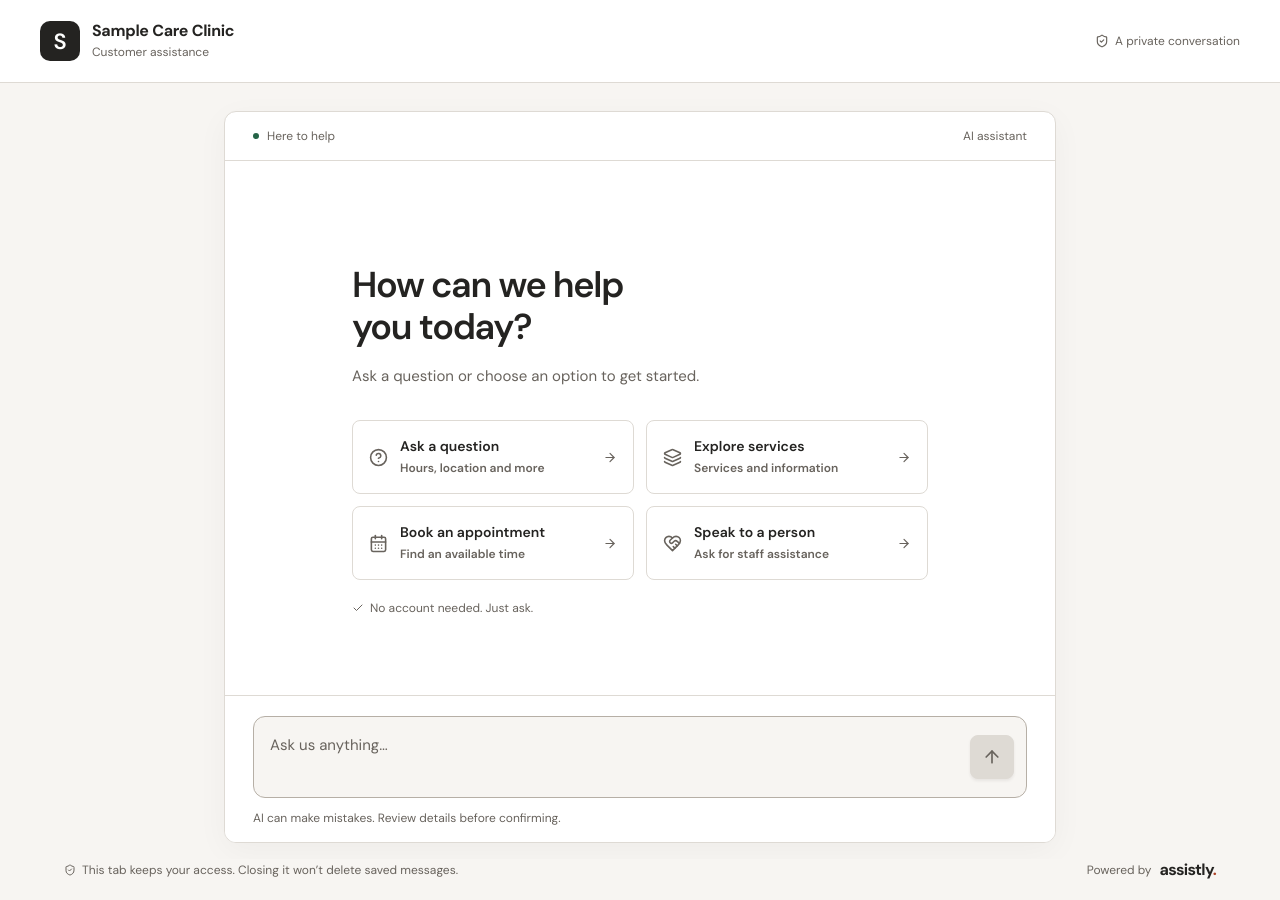
Test: public customer chat › starts with the first message and reuses the original request on retry
The width and height of the screenshot is (1280, 900).
Expected: the heading named "How can we help you today?" is shown, [352, 261, 623, 350]
Type "Can you help me?" into the text box named "Your message". click: point(608, 757)
box: [258, 725, 958, 789]
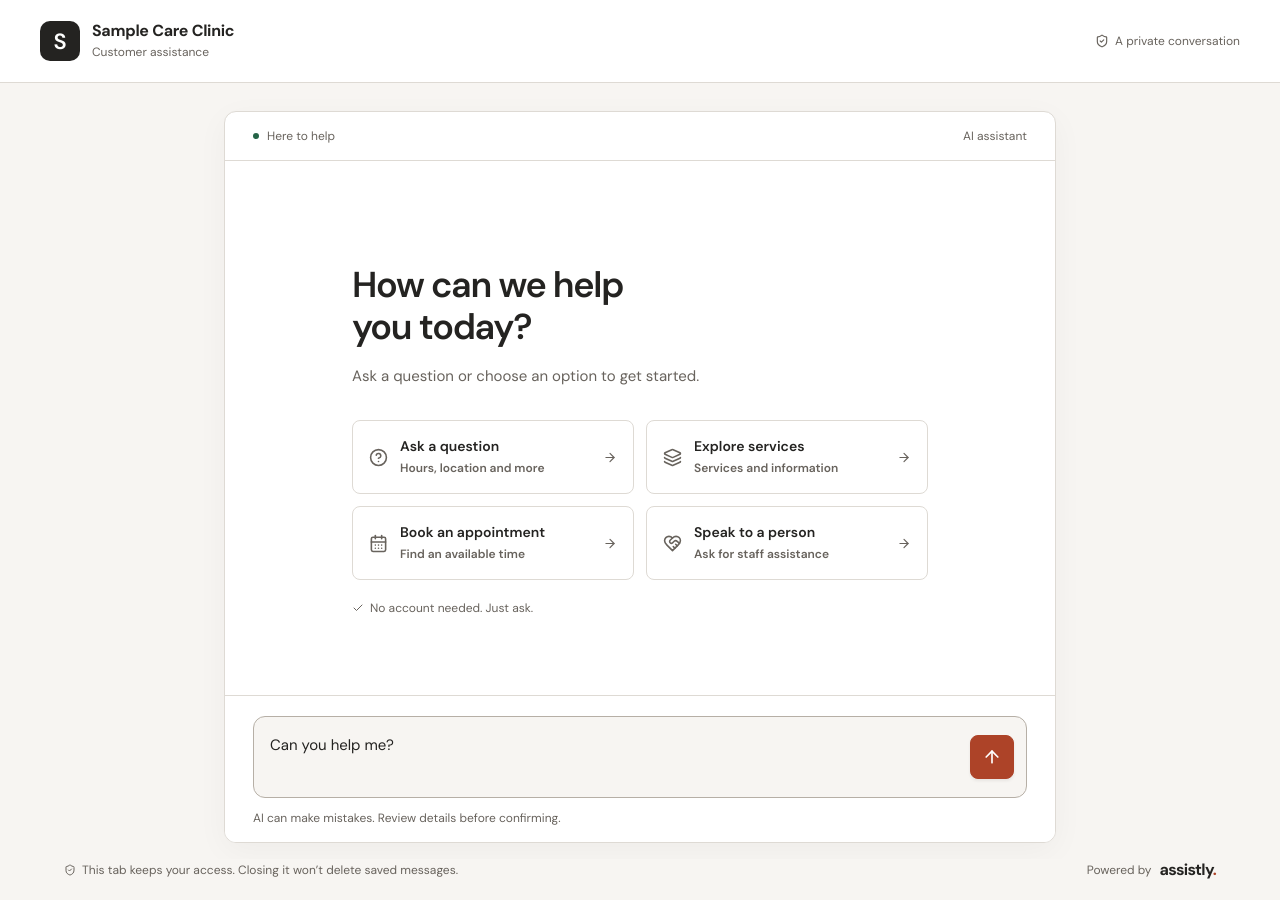
Click the button named "Send message". click: point(992, 757)
box: [970, 735, 1014, 779]
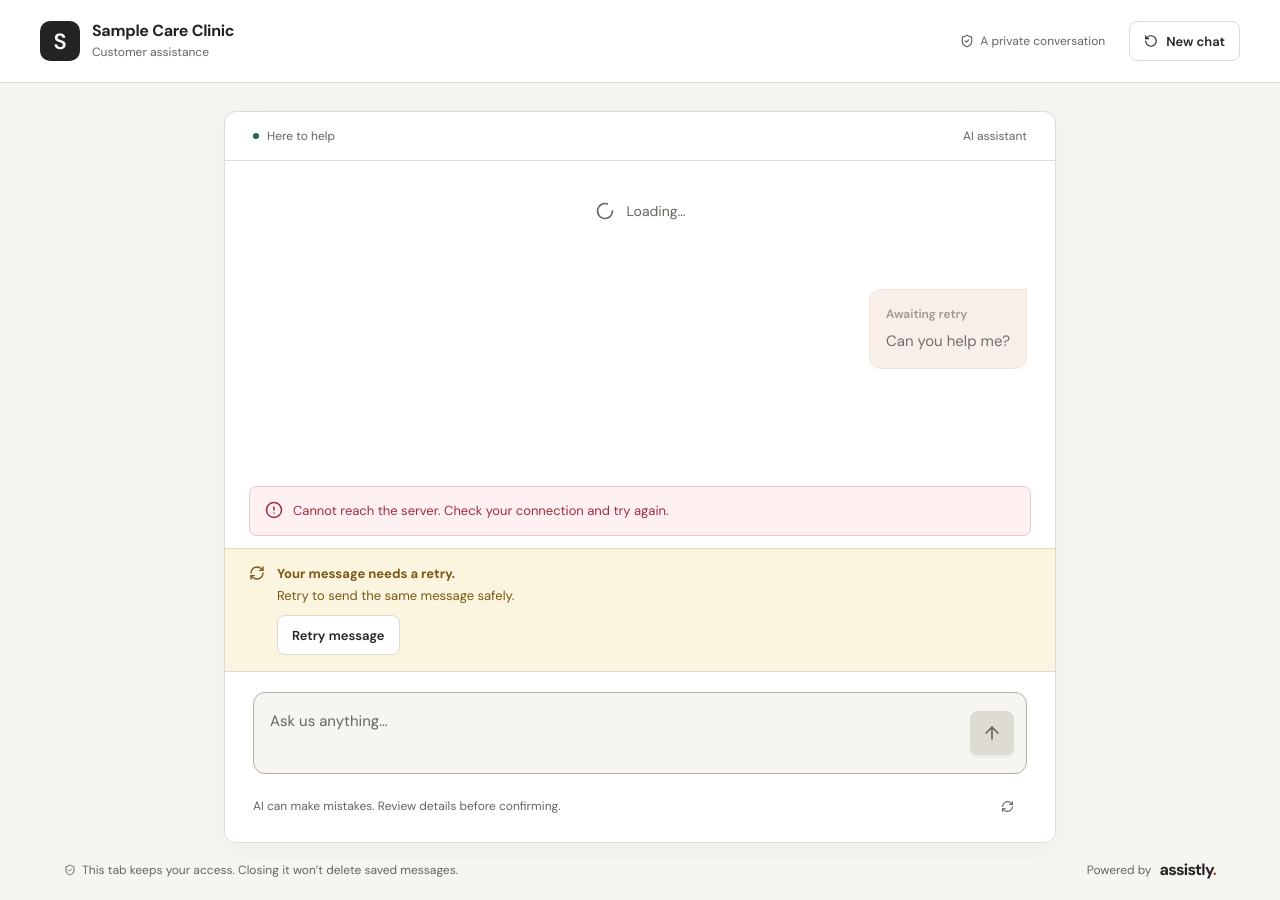
Click the button "Retry message". click: point(338, 635)
box: [277, 615, 400, 655]
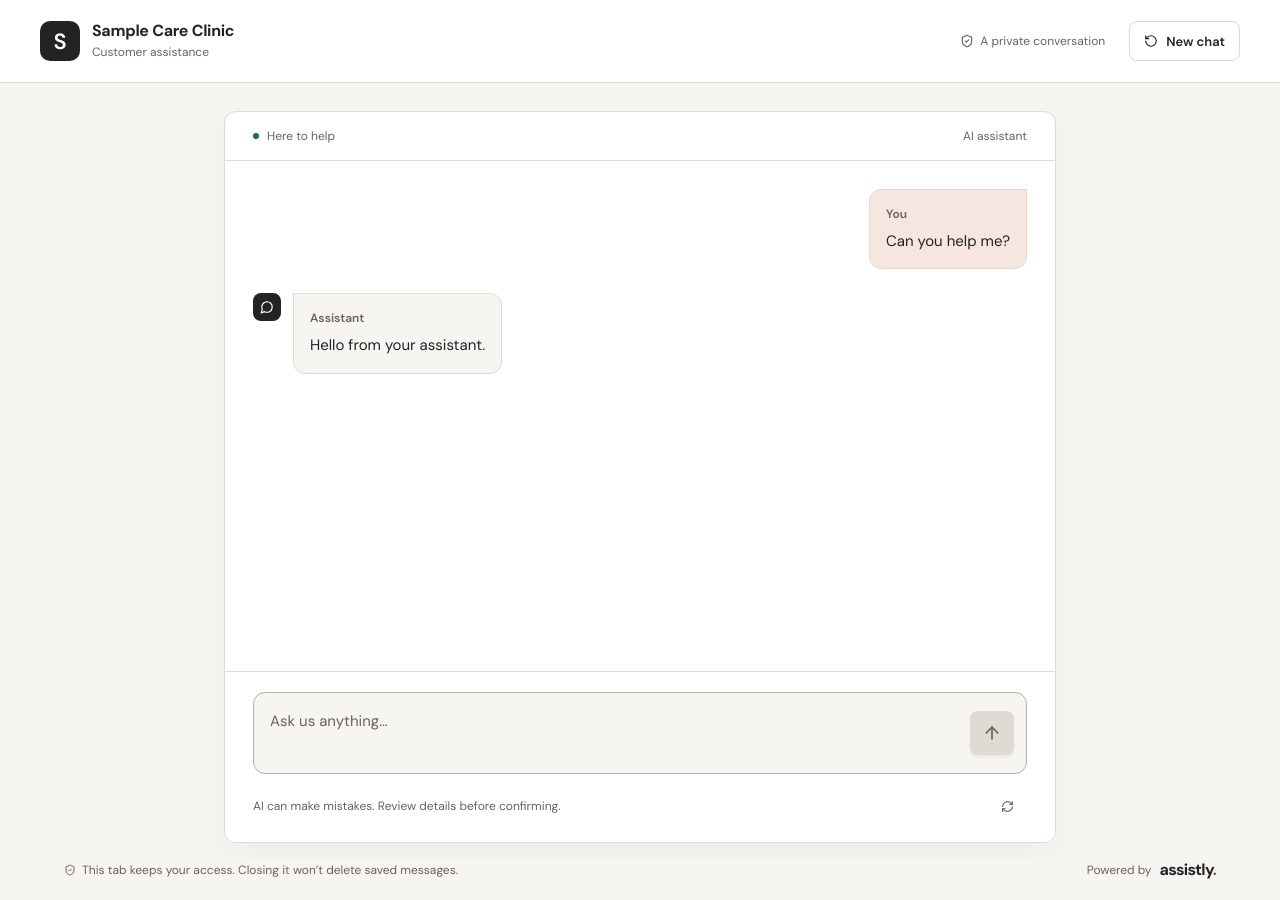
Expected: the text "Hello from your assistant." is shown, [310, 332, 485, 359]
